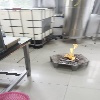fire: (64, 43, 78, 60)
